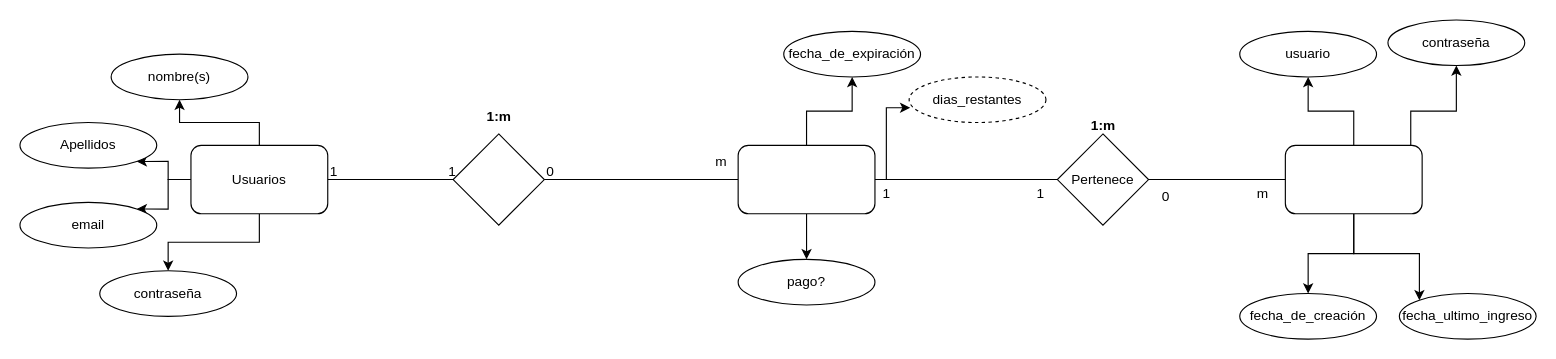
Some shapes in this 1556 by 359 pixel diagram are drawn without their labels. Each missing label, with the centre of its shape:
"Licencias" goes at (x=1353, y=179).
"Pack" goes at (x=806, y=179).
"Tiene" goes at (x=498, y=179).
